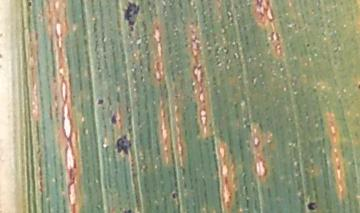tarspot: (123, 1, 140, 32), (115, 134, 132, 155), (306, 199, 318, 213), (110, 110, 118, 127), (95, 97, 105, 106), (171, 191, 178, 199), (121, 209, 134, 213), (26, 1, 33, 8), (304, 41, 310, 48), (357, 83, 360, 91)
